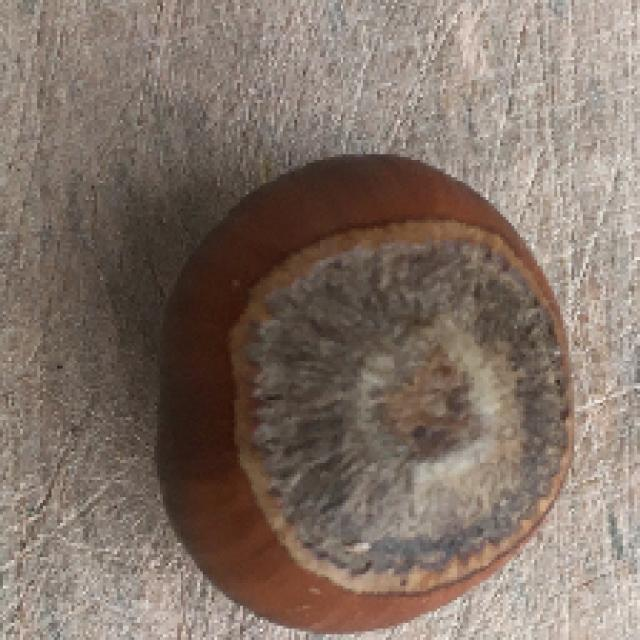qualityHazelnut: (156, 152, 574, 633)
